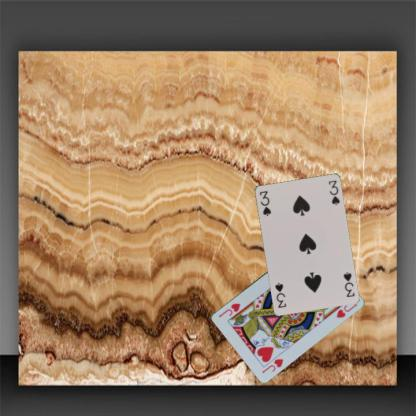3s: (340, 269, 356, 298), (257, 188, 272, 217)
Jh: (260, 356, 284, 374)
